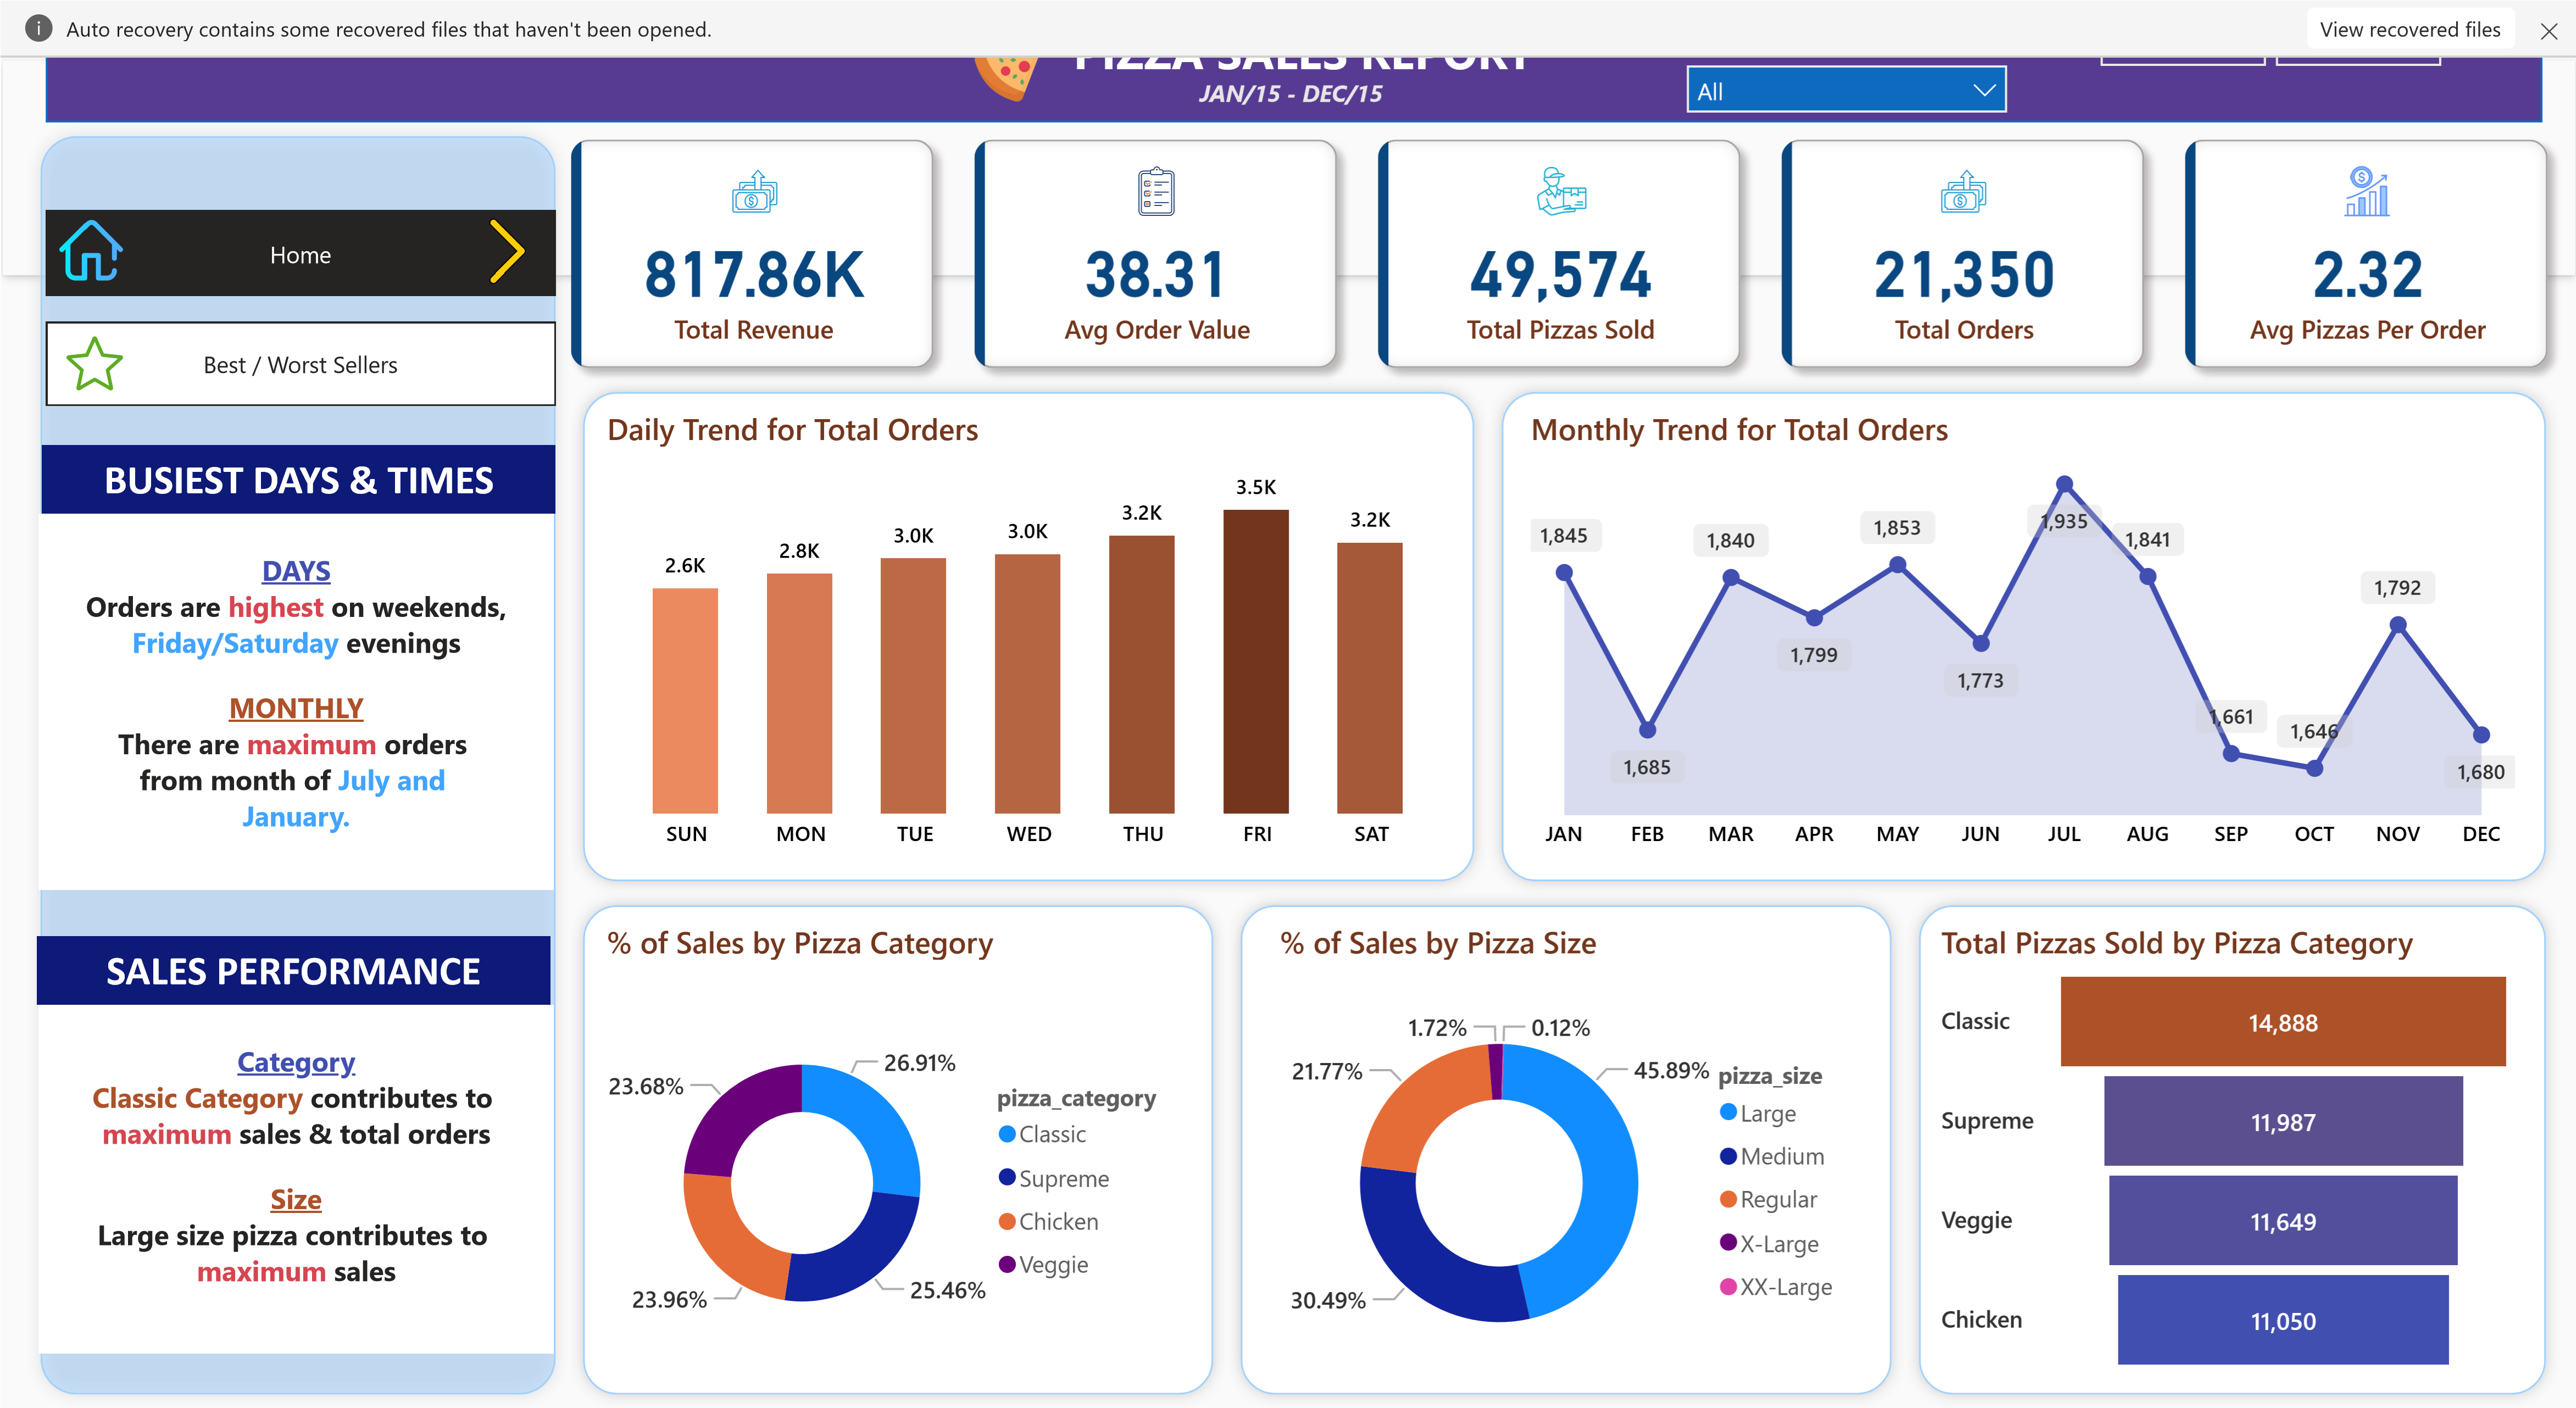

This screenshot's page, from the dashboard's own definition file:
{"tool":"powerbi","page":{"name":"Home","canvas":[1500,820],"ordinal":0},"visuals":[{"type":"shape","box":[15.3,71,316.1,749.3],"z":0},{"type":"cardVisual","fields":{"Data":["pizza_sales.Total Revenue","pizza_sales.Avg Order Value","pizza_sales.Total Pizzas Sold","pizza_sales.Total Orders","pizza_sales.Avg Pizzas Per Order"]},"box":[314.7,64.1,1185.2,167.1],"z":1000},{"type":"shape","box":[26.5,5.6,1453.9,65.5],"z":2000},{"type":"textbox","box":[608.6,5.6,299.4,46],"z":3000},{"type":"textbox","box":[676.8,40.4,149,30.6],"z":4000},{"type":"image","box":[551.5,11.1,73.8,54.3],"z":5000},{"type":"shape","box":[331.5,220,534.8,300.8],"z":6000},{"type":"columnChart","title":"Daily Trend for Total Orders","fields":{"Category":["pizza_sales.Order Day"],"Y":["pizza_sales.Total Orders"]},"box":[348.2,236.8,501.4,267.4],"z":7000},{"type":"shape","box":[866.2,220,623.9,300.8],"z":8000},{"type":"areaChart","title":"Monthly Trend for Total Orders","fields":{"Category":["pizza_sales.Order Month"],"Y":["pizza_sales.Total Orders"]},"box":[885.7,236.8,583.5,267.4],"z":9000},{"type":"shape","box":[331.5,519.5,383,300.8],"z":10000},{"type":"shape","box":[1108.6,519.5,381.6,300.8],"z":11000},{"type":"shape","box":[714.4,519.5,394.1,300.8],"z":12000},{"type":"donutChart","title":"%  of Sales by Pizza Category","fields":{"Category":["pizza_sales.pizza_category"],"Y":["pizza_sales.Total Revenue"]},"box":[348.2,536.2,345.4,284.1],"z":13000},{"type":"donutChart","title":"%  of Sales by Pizza Size","fields":{"Y":["pizza_sales.Total Revenue"],"Category":["pizza_sales.pizza_size"]},"box":[739.5,536.2,345.4,284.1],"z":14000},{"type":"funnel","title":"Total Pizzas Sold by Pizza Category","fields":{"Category":["pizza_sales.pizza_category"],"Y":["pizza_sales.Total Pizzas Sold"]},"box":[1125.3,536.2,344,270.2],"z":15000},{"type":"pageNavigator","box":[25.7,122.2,297.5,49.9],"z":16000},{"type":"textbox","box":[23.7,259,299.4,40.4],"z":17000},{"type":"textbox","box":[22.3,299.4,299.4,218.6],"z":18000},{"type":"textbox","box":[20.9,544.5,299.4,40.4],"z":19000},{"type":"textbox","box":[22.3,584.9,299.4,203.3],"z":20000},{"type":"slicer","fields":{"Values":["pizza_sales.pizza_category"]},"box":[972.1,5.6,206.1,65.5],"z":21000},{"type":"slicer","fields":{"Values":["pizza_sales.order_date"]},"box":[1210.2,0,228.4,71],"z":22000},{"type":"pageNavigator","box":[25.7,186.5,297.5,49.9],"z":23000},{"type":"image","box":[266.9,122.2,54.7,48.2],"z":24000},{"type":"image","box":[25.7,122.2,53.1,46.6],"z":25000},{"type":"image","box":[25.7,189.8,56.3,43.4],"z":25001}]}

Visuals, with their boxes on the page's 1500x820 design canvas (x1, y1, x2, y2). These are canvas units, not pixel positions in the 2576x1408 screenshot, which may show the page scaled, cropped or inside an application window:
shape: 15 71 331 820
cardVisual - pizza_sales.Total Revenue x pizza_sales.Avg Order Value: 315 64 1500 231
shape: 26 6 1480 71
textbox: 609 6 908 52
textbox: 677 40 826 71
image: 552 11 625 65
shape: 332 220 866 521
"Daily Trend for Total Orders" columnChart: 348 237 850 504
shape: 866 220 1490 521
"Monthly Trend for Total Orders" areaChart: 886 237 1469 504
shape: 332 520 714 820
shape: 1109 520 1490 820
shape: 714 520 1108 820
"%  of Sales by Pizza Category" donutChart: 348 536 694 820
"%  of Sales by Pizza Size" donutChart: 740 536 1085 820
"Total Pizzas Sold by Pizza Category" funnel: 1125 536 1469 806
pageNavigator: 26 122 323 172
textbox: 24 259 323 299
textbox: 22 299 322 518
textbox: 21 544 320 585
textbox: 22 585 322 788
slicer - pizza_sales.pizza_category: 972 6 1178 71
slicer - pizza_sales.order_date: 1210 0 1439 71
pageNavigator: 26 186 323 236
image: 267 122 322 170
image: 26 122 79 169
image: 26 190 82 233
